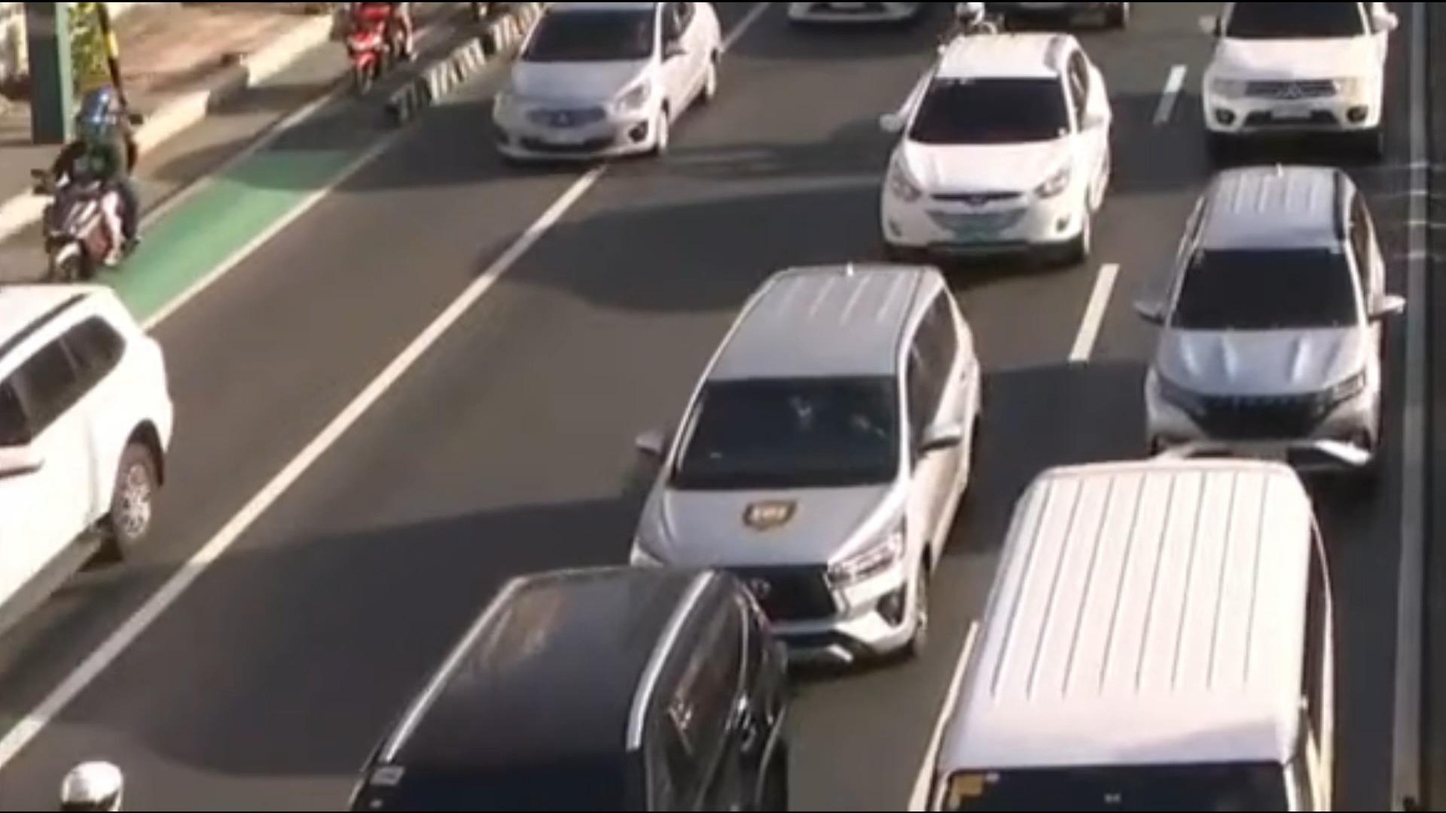Motorcycle: (32, 85, 151, 290), (343, 0, 409, 96)
SUV: (631, 267, 981, 674), (341, 568, 802, 813), (1139, 167, 1384, 476), (0, 282, 177, 662), (877, 32, 1120, 267), (1188, 0, 1410, 145)
Sedan: (493, 0, 734, 156)
Van: (949, 457, 1331, 813)
